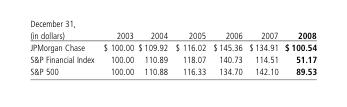table: (29, 29, 316, 76)
table column: (29, 29, 98, 76), (170, 29, 208, 76), (98, 29, 135, 76), (208, 29, 245, 76), (280, 29, 316, 76), (135, 29, 170, 76), (245, 29, 280, 76)
table column header: (29, 29, 316, 40)
table row: (29, 52, 316, 65), (29, 40, 316, 52), (29, 29, 316, 40), (29, 65, 316, 76)
